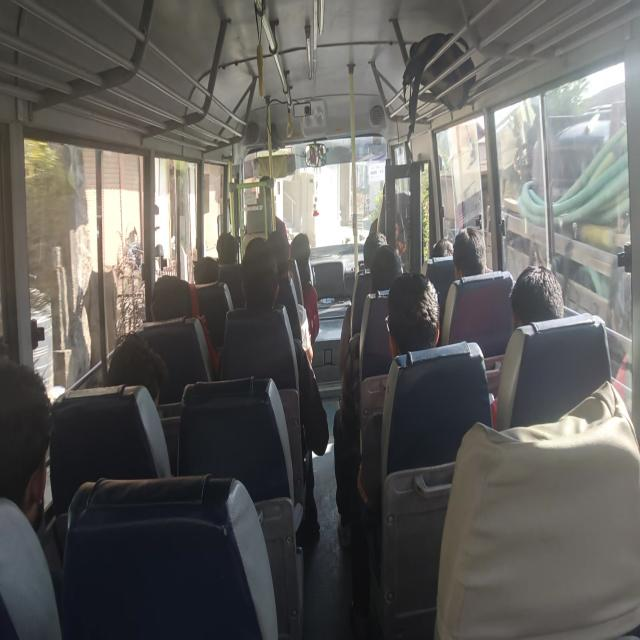person: (434, 379, 639, 638), (219, 237, 329, 538), (351, 270, 441, 636), (333, 241, 403, 548), (0, 355, 62, 638), (488, 264, 564, 427), (105, 332, 172, 476), (338, 230, 389, 374), (437, 226, 490, 344), (267, 230, 313, 364), (386, 270, 440, 360), (105, 332, 168, 408), (509, 264, 565, 332), (290, 232, 320, 342), (453, 226, 488, 279), (370, 244, 403, 292), (193, 256, 219, 285), (216, 232, 239, 264), (432, 237, 454, 258)
